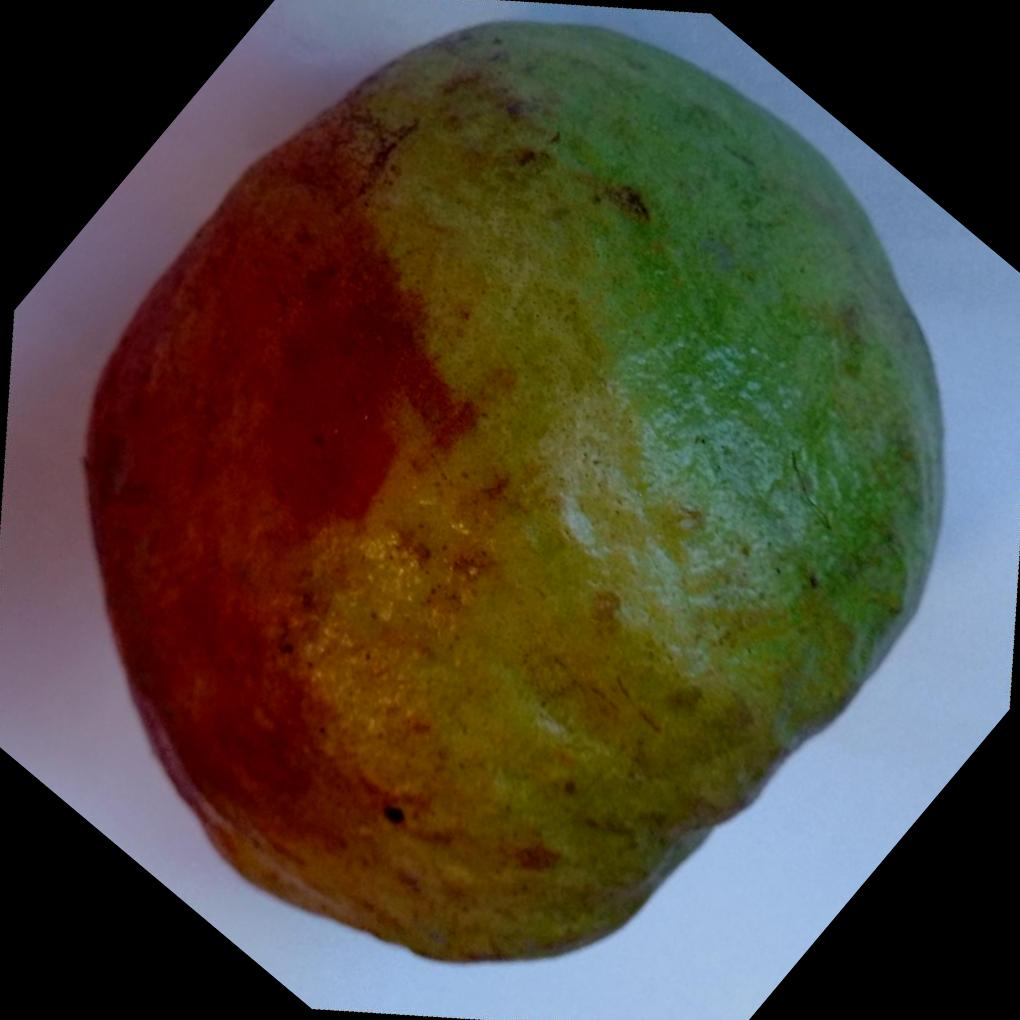FreshGuava: (81, 15, 948, 965)
